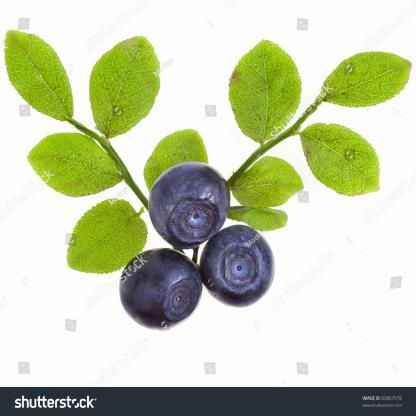Blueberry leaf: (227, 29, 306, 138), (87, 35, 169, 136), (20, 128, 131, 198), (4, 28, 79, 125), (300, 116, 383, 201), (61, 199, 148, 272), (316, 51, 415, 106), (232, 157, 308, 208)
